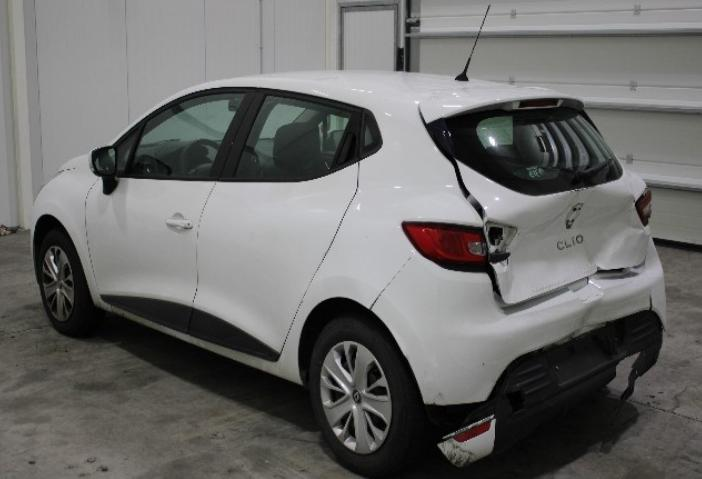Back-bumper: (369, 237, 666, 469)
Back-door: (189, 88, 363, 362)
Back-wheel: (309, 316, 428, 478)
Back-window: (234, 95, 353, 179)
Back-windshield: (451, 108, 623, 196)
Fender: (31, 168, 101, 299)
Front-door: (85, 87, 258, 334)
Front-wheel: (37, 227, 105, 338)
Front-window: (128, 93, 245, 177), (115, 128, 139, 174)
Hood: (57, 153, 90, 173)
Mirror: (89, 146, 119, 196)
Quarter-panel: (278, 144, 482, 366)
Rocker-panel: (92, 296, 302, 386)
Roof: (170, 69, 519, 111)
Tail-light: (402, 221, 488, 272), (635, 189, 652, 226)
Trunk: (455, 158, 650, 304), (419, 86, 603, 158)
